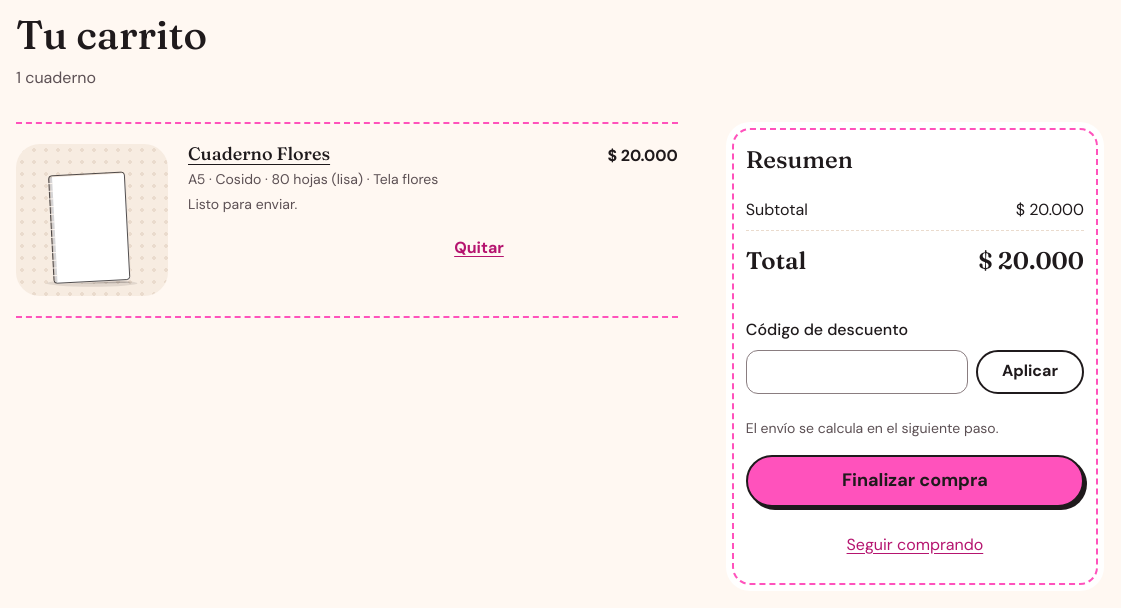
Test case: CartView › quitar el último cuaderno deja el carrito vacío
The width and height of the screenshot is (1121, 608).
Click the button "Quitar".
click(479, 249)  # box [428, 227, 530, 271]
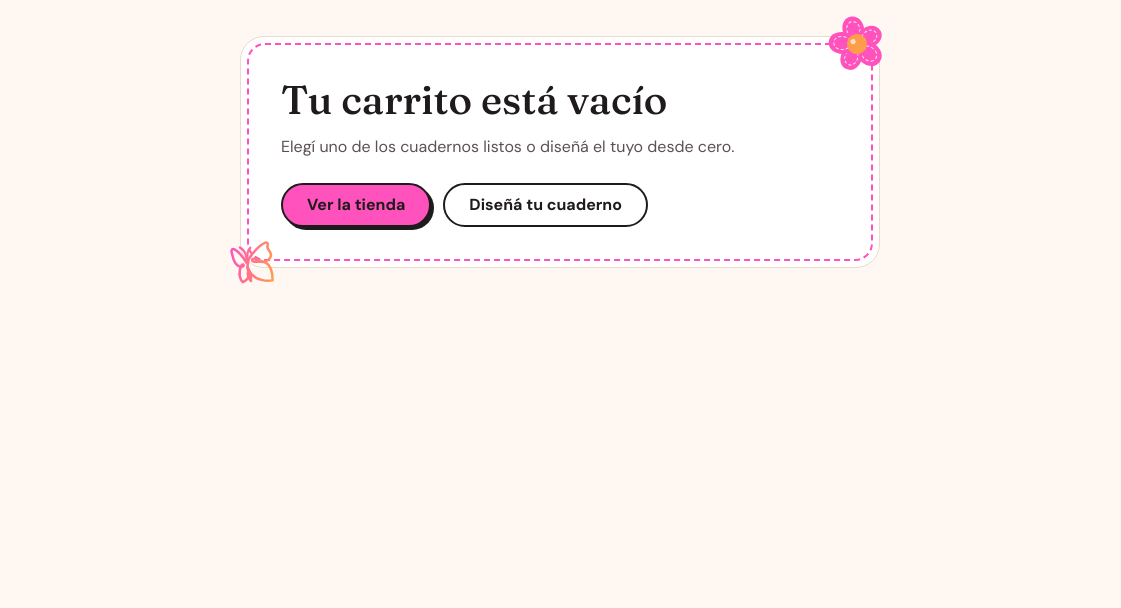
Expected: the heading "Tu carrito está vacío" is shown, [281, 77, 667, 123]
